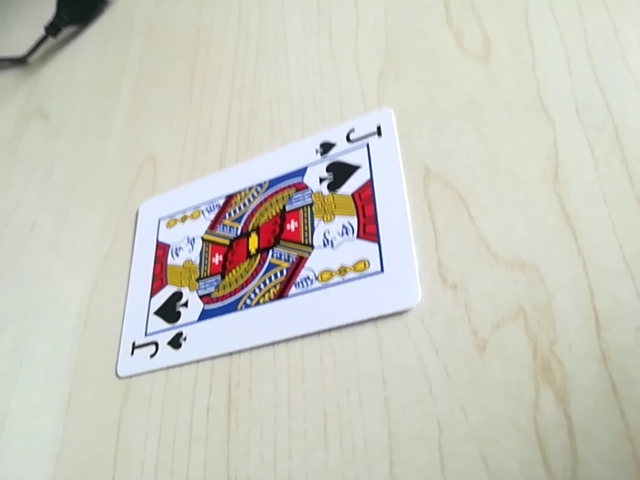ht j: (124, 326, 194, 369), (314, 123, 385, 159)
